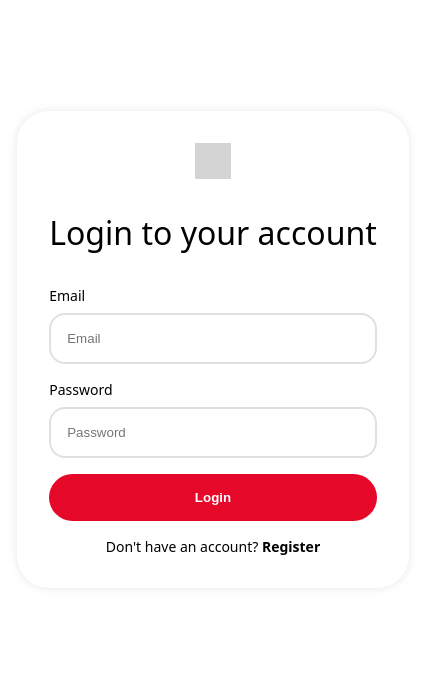
Scenario: AuthPage Component › switches back to login form
The image size is (427, 700).
Click the text "Register": (291, 546) [262,536,320,556]
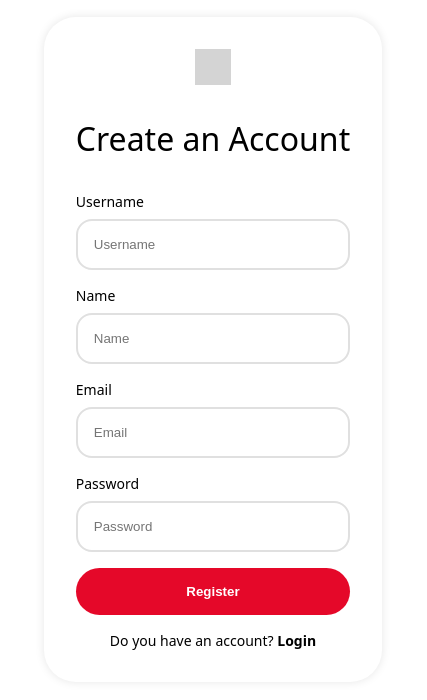
Click the text "Login": (297, 640) [277,630,316,650]
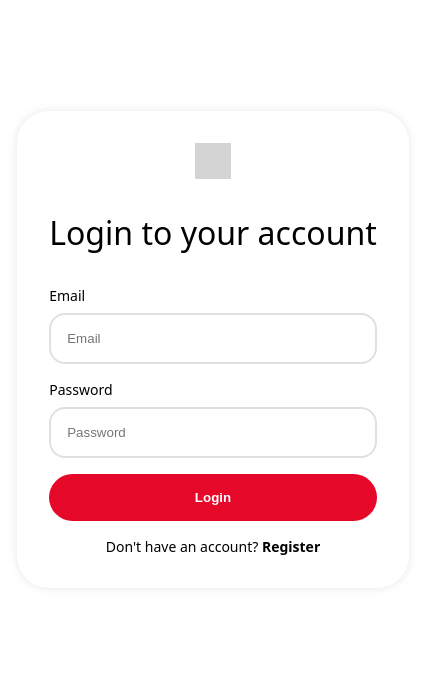
Check: the heading "Login to your account" is shown, box [49,210,377,254]
Check: the label with placeholder "Username" is gone
